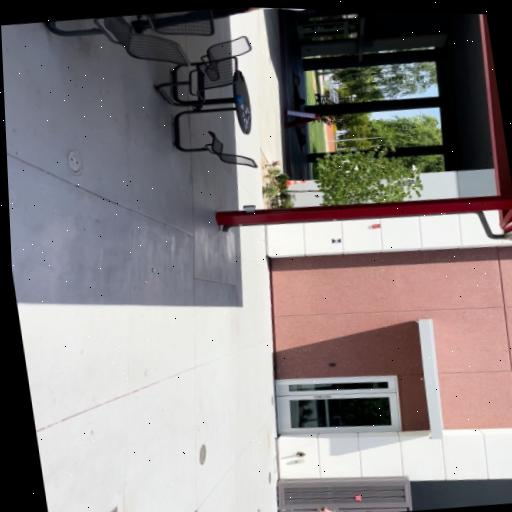target6: (332, 238, 341, 244)
